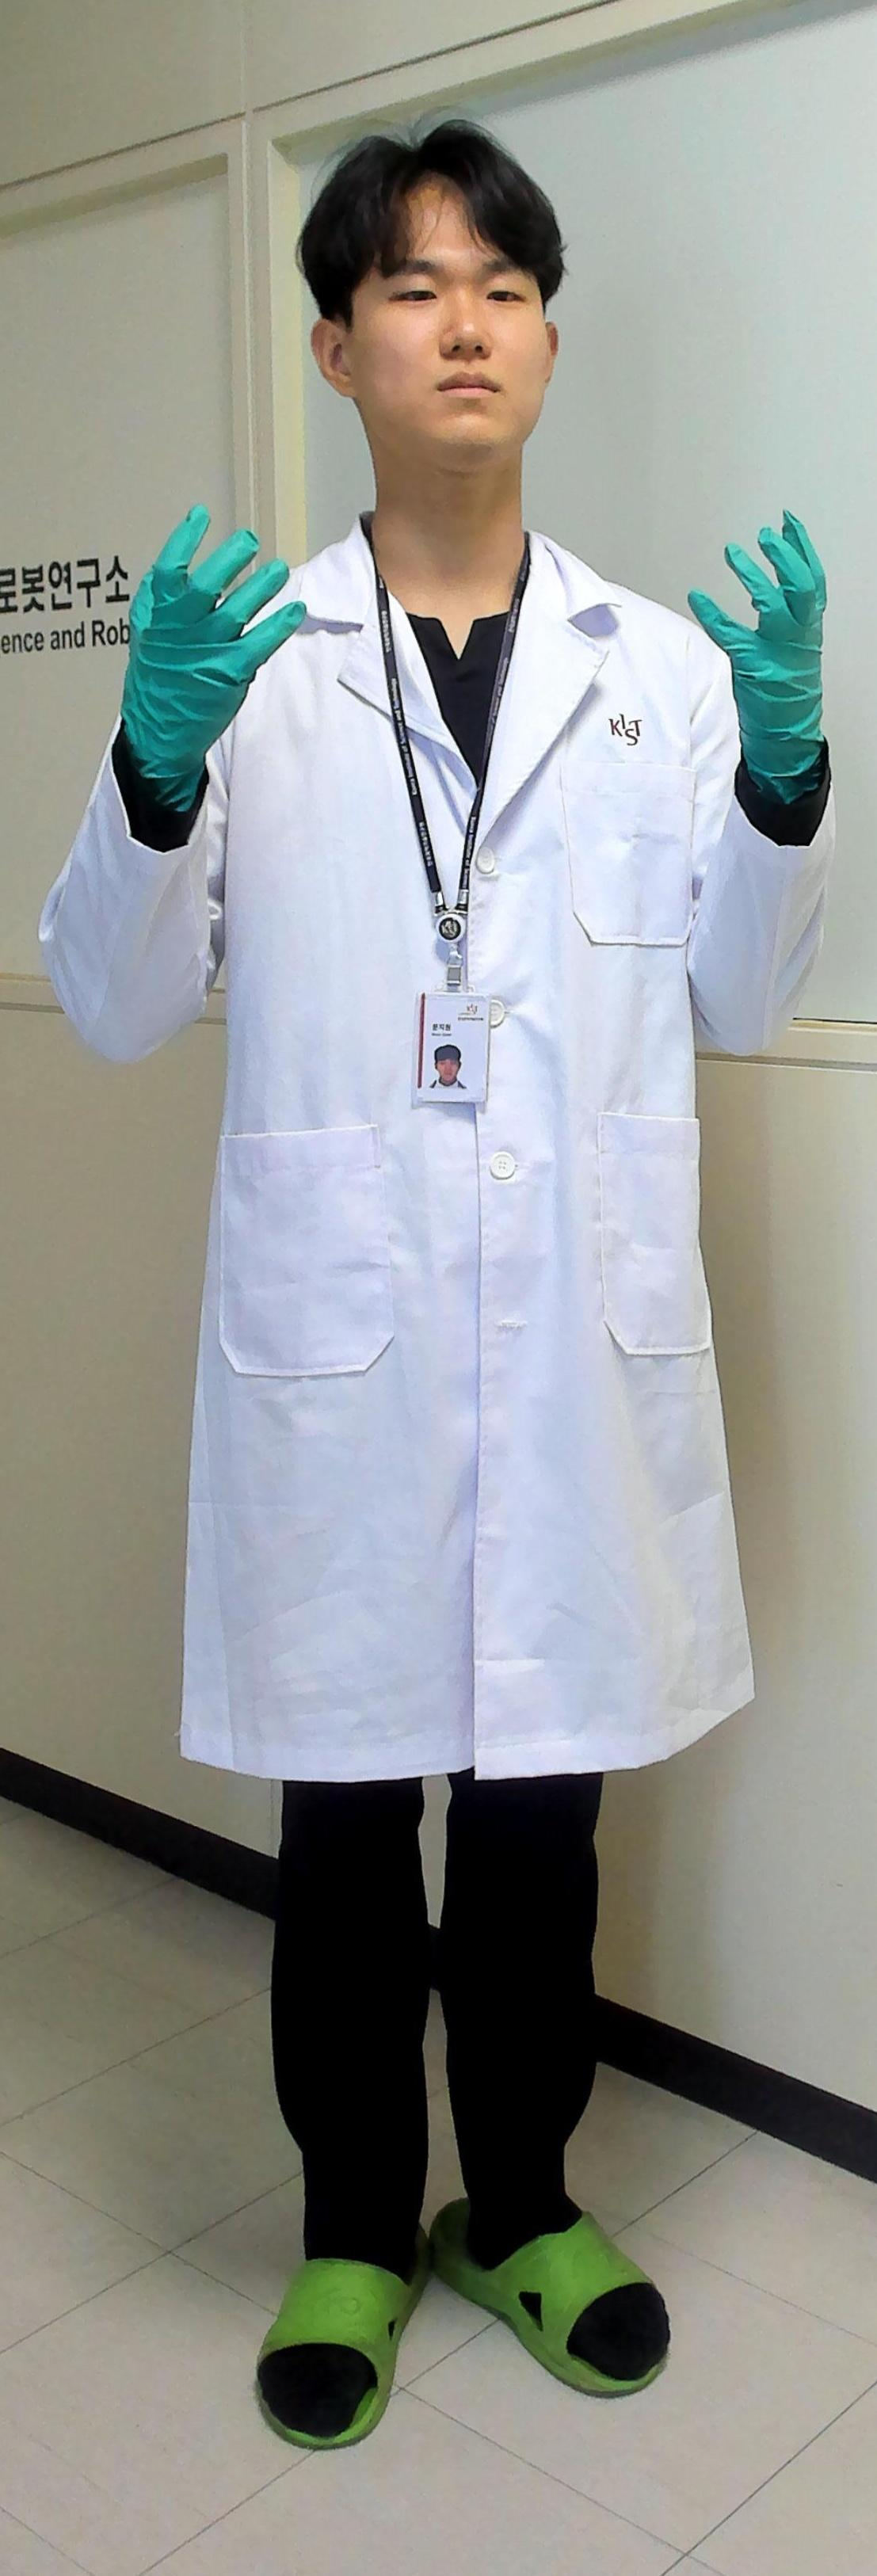lab_coat: (41, 513, 836, 1781)
